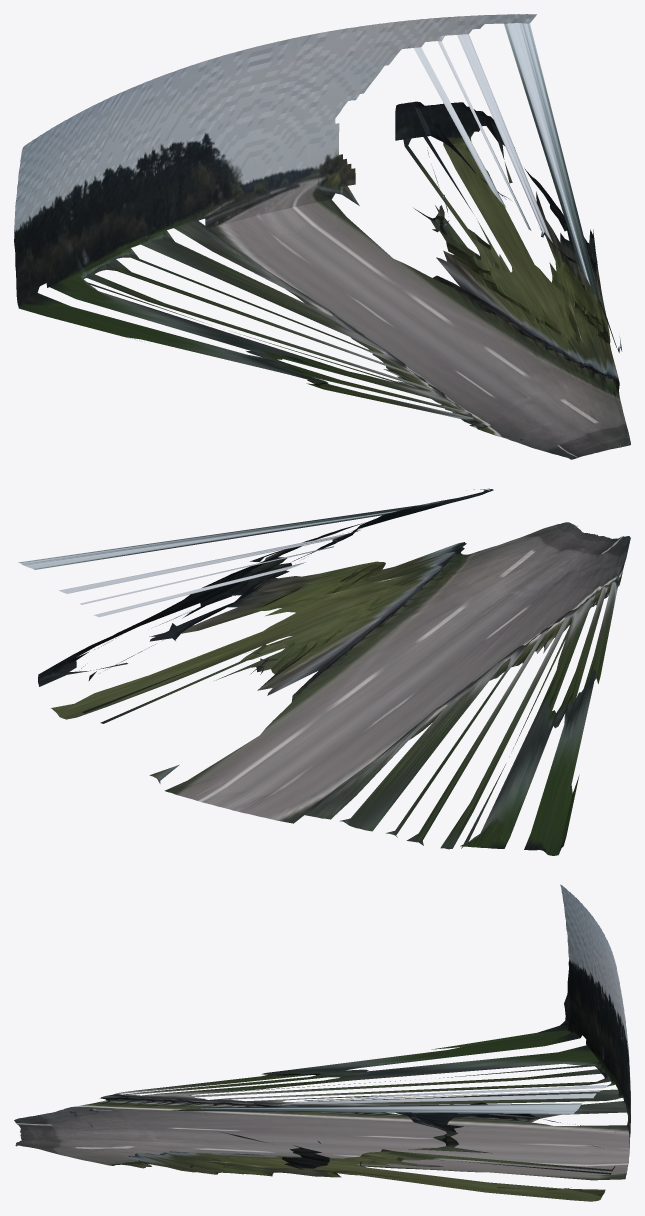
3 views of the same model, one above another, from view 1: azimuth 30°, elevation 25°; view 2: azimuth 150°, elevation 25°; view 3: azimuth 270°, elevation 25° (orthographic). The views are drawn at different scales.
Visible parts, largest first — view 1: defaultobject; view 2: defaultobject; view 3: defaultobject.
Part boxes in pixels (left/top/right/bottom): defaultobject: left=14, top=14, right=630, bottom=459; defaultobject: left=18, top=488, right=630, bottom=855; defaultobject: left=14, top=884, right=630, bottom=1201.
Size of the model in its own units: 39.09 by 12.73 by 44.84.
1 material, 1 textured.
